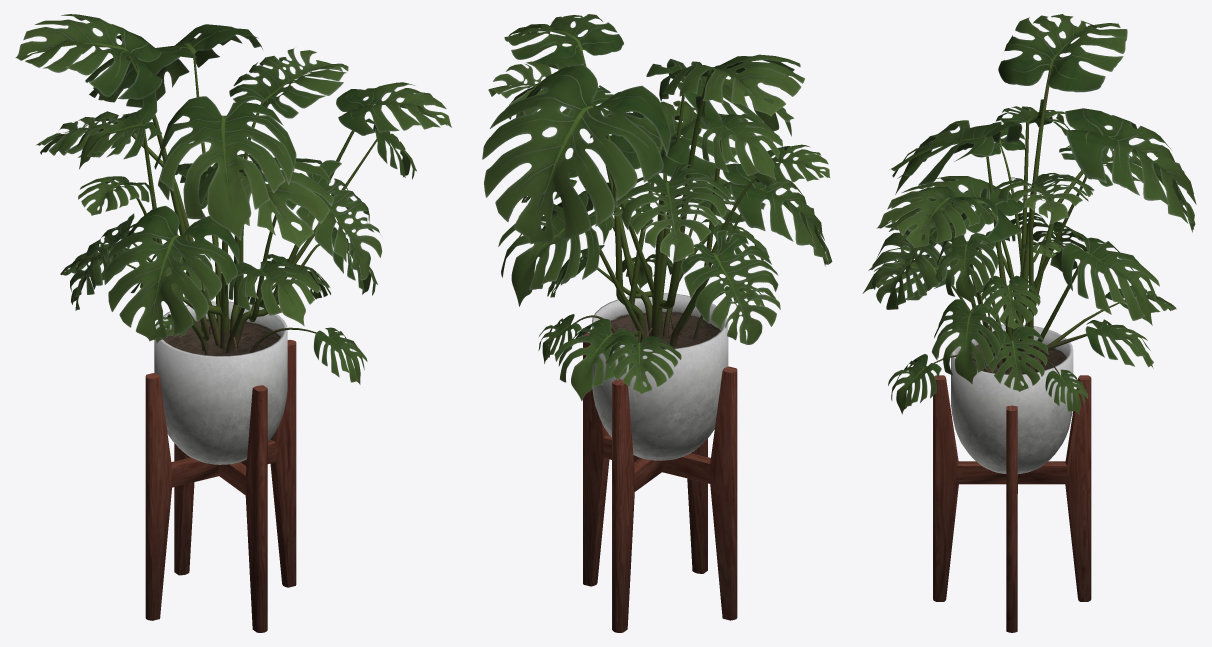
Rendered from monstera.glb.
The picture shows the model from 3 angles, left to right: view 1: azimuth 30°, elevation 25°; view 2: azimuth 150°, elevation 25°; view 3: azimuth 270°, elevation 25°; orthographic projection. The views are drawn at different scales.
Parts seen in each view (by area): view 1: Leaves_Mat_1_0, Pot_LP_Mat_0, root_HP_1_Mat_2_0; view 2: Leaves_Mat_1_0, Pot_LP_Mat_0, root_HP_1_Mat_2_0; view 3: Leaves_Mat_1_0, Pot_LP_Mat_0, root_HP_1_Mat_2_0.
Part boxes in pixels (x1=…): Leaves_Mat_1_0: x1=15, y1=14, x2=451, y2=384; Pot_LP_Mat_0: x1=145, y1=301, x2=296, y2=632; root_HP_1_Mat_2_0: x1=124, y1=53, x2=376, y2=355; Leaves_Mat_1_0: x1=482, y1=14, x2=832, y2=401; Pot_LP_Mat_0: x1=583, y1=293, x2=737, y2=632; root_HP_1_Mat_2_0: x1=559, y1=50, x2=756, y2=346; Leaves_Mat_1_0: x1=862, y1=14, x2=1196, y2=414; Pot_LP_Mat_0: x1=933, y1=324, x2=1091, y2=632; root_HP_1_Mat_2_0: x1=933, y1=68, x2=1124, y2=375.
Bounding box in the file's own units: 0.7988 × 1.25 × 0.7267.
Materials: 3 (3 with a texture image).
